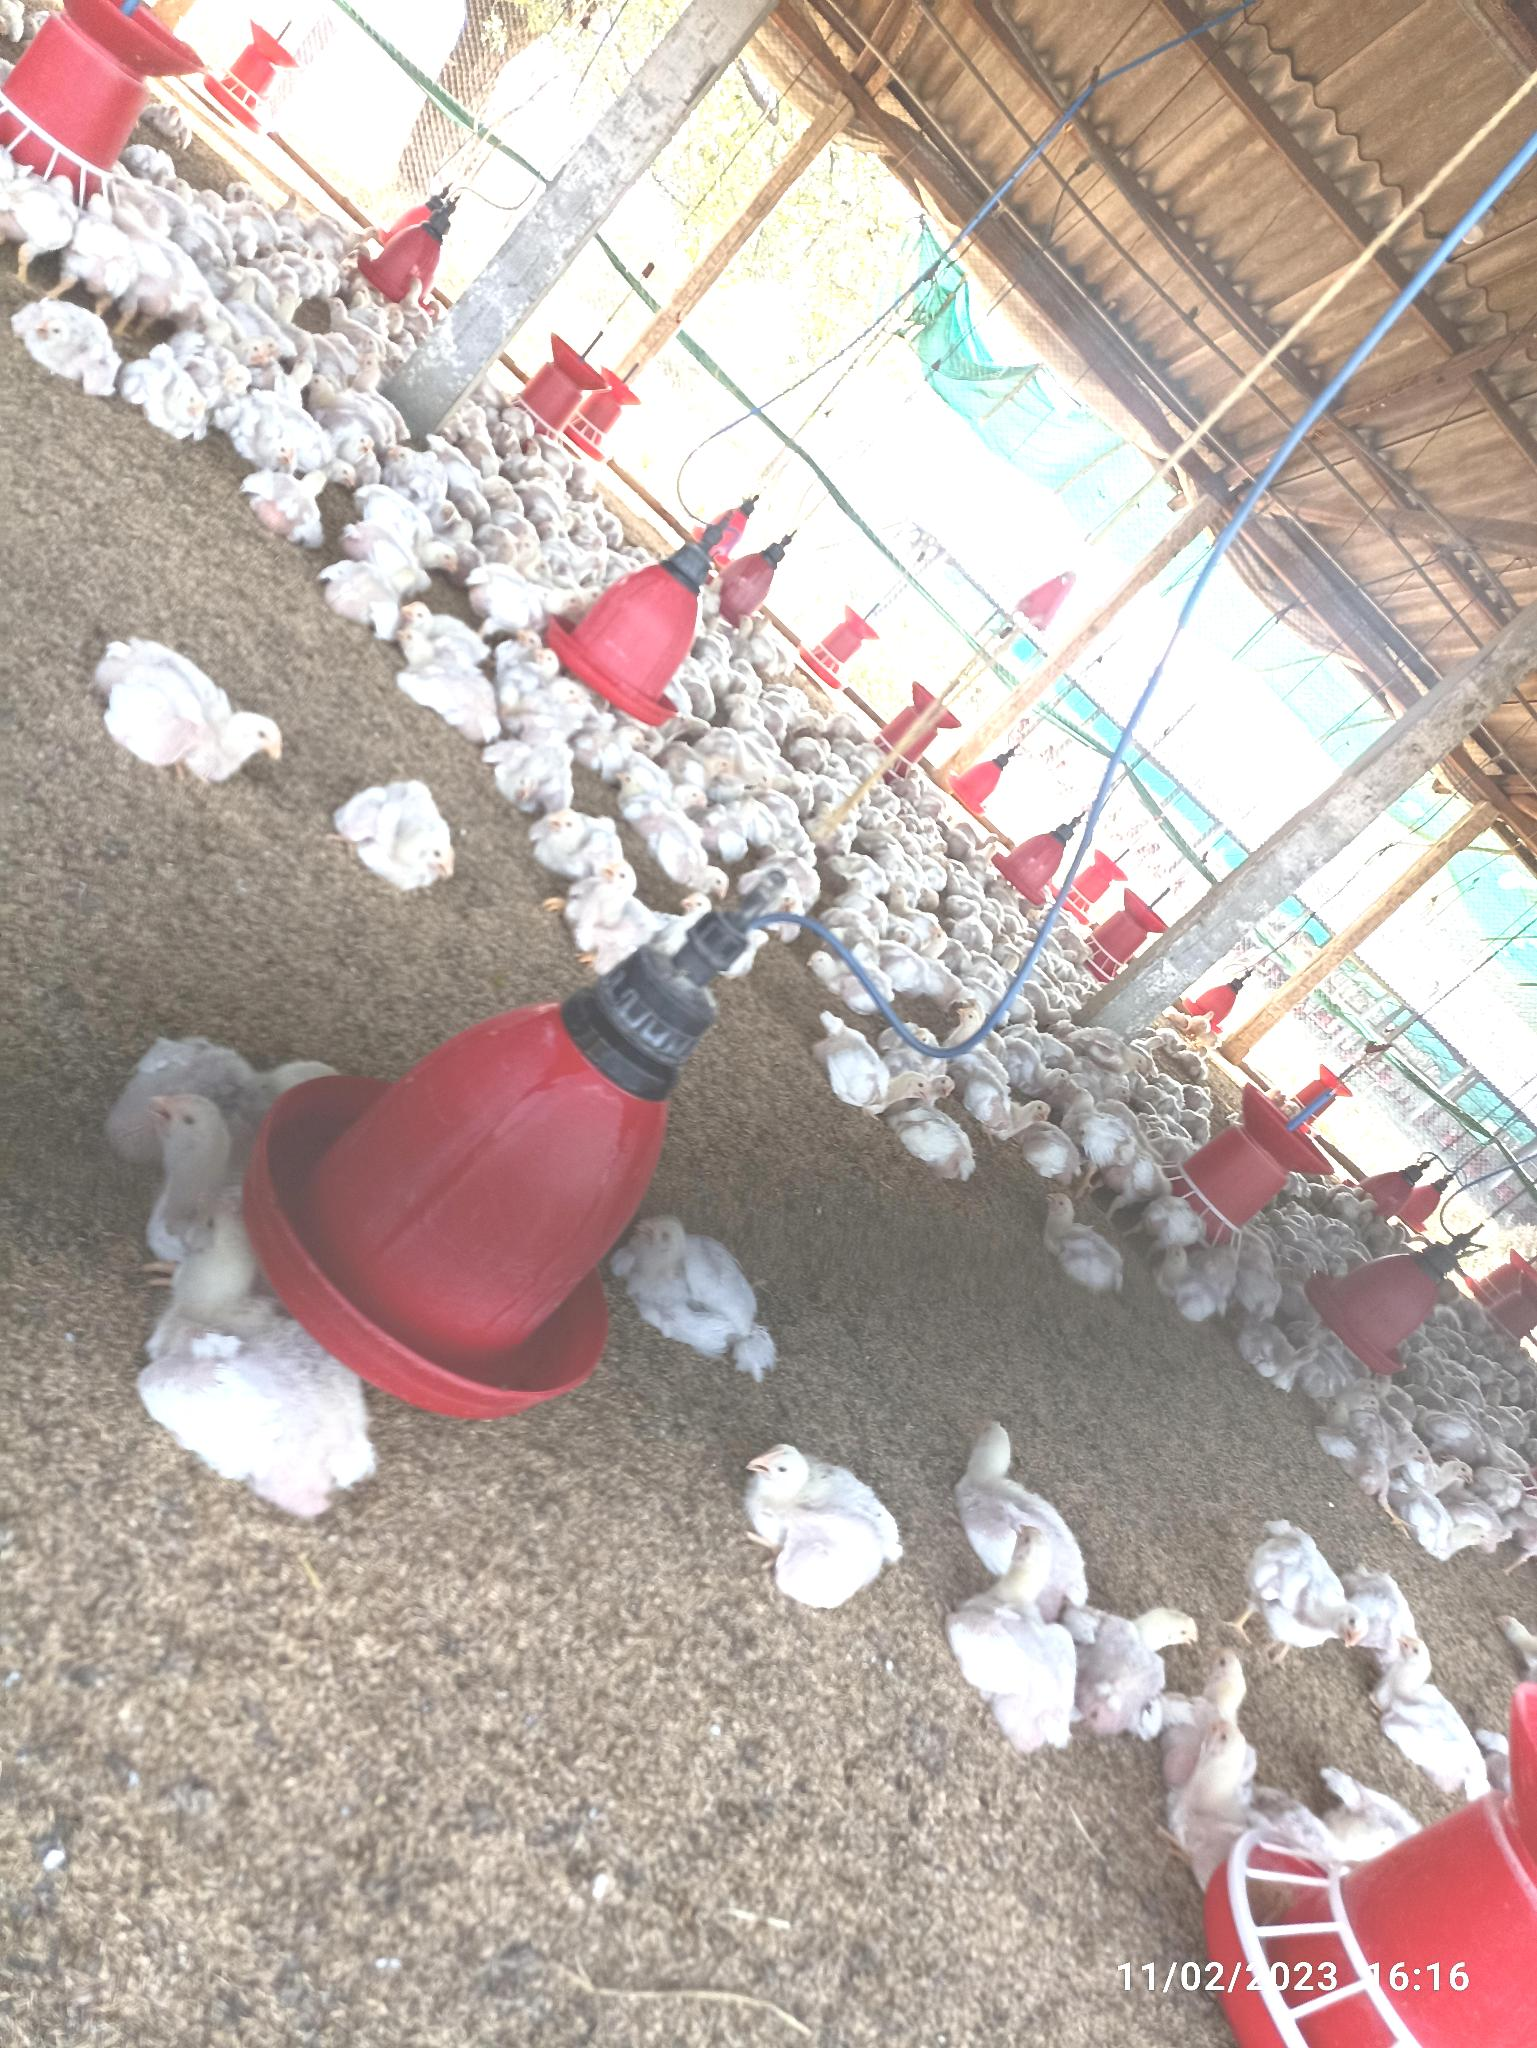Pollos: (136, 1202, 366, 1494), (94, 634, 292, 789), (949, 1519, 1080, 1749), (628, 1215, 786, 1378), (744, 1444, 899, 1599), (1387, 1630, 1495, 1795), (1166, 1649, 1258, 1841), (1066, 1612, 1188, 1733), (328, 779, 452, 889), (1263, 1520, 1363, 1654), (391, 621, 504, 738), (823, 1022, 943, 1110), (646, 789, 730, 897), (24, 295, 110, 395), (1041, 1189, 1119, 1298), (1338, 1406, 1439, 1488), (244, 457, 325, 542), (131, 344, 202, 439), (544, 802, 626, 880), (387, 439, 447, 499)
